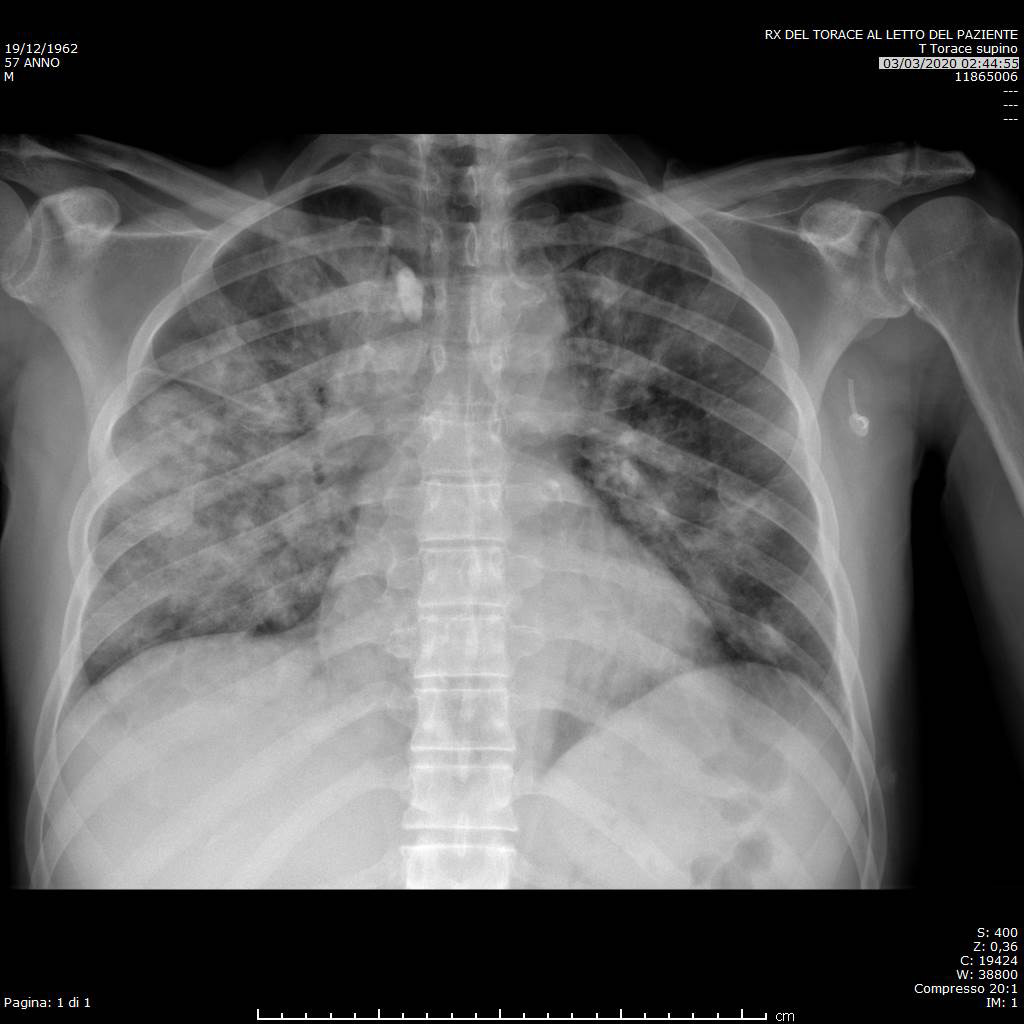Severe: (82, 183, 428, 680), (530, 172, 839, 707)
